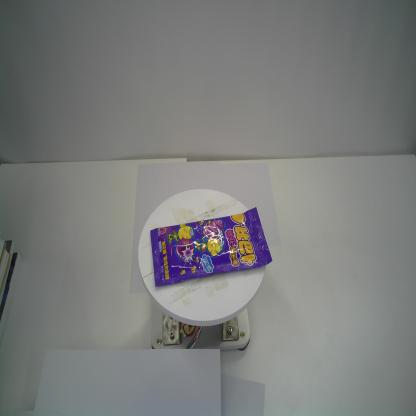Candy: (150, 206, 273, 288)
